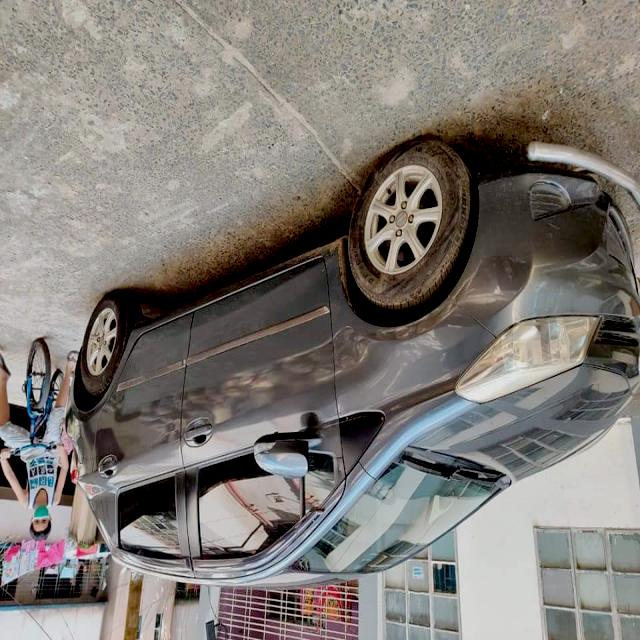black: (75, 146, 640, 583)
